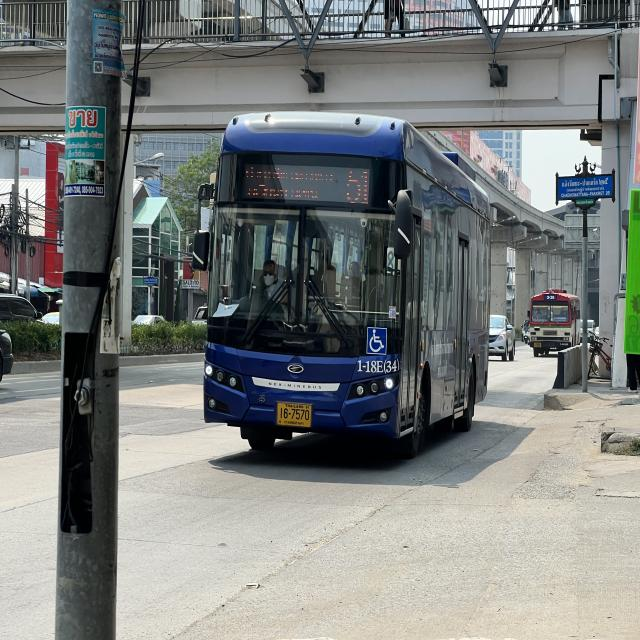BMTA-bus: (526, 289, 582, 359)
Bus-Line-Number: (340, 163, 380, 208), (544, 294, 558, 299)
Destination-Sign-Normal: (241, 160, 336, 206), (554, 316, 568, 323)
TSB-Bus: (194, 112, 491, 454)
